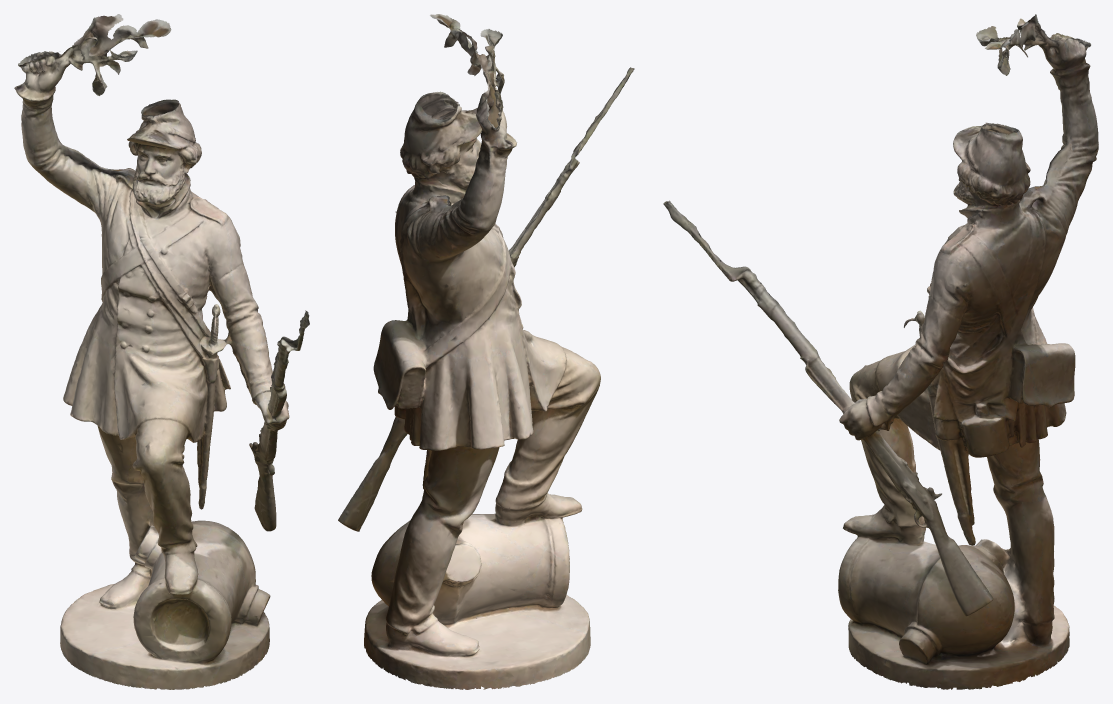
Rendered from preview.glb.
3 renders of one model, left to right at view 1: azimuth 30°, elevation 25°; view 2: azimuth 150°, elevation 25°; view 3: azimuth 270°, elevation 25°, orthographic. The views are drawn at different scales.
Visible parts, largest first — view 1: Object_2; view 2: Object_2; view 3: Object_2.
Part boxes in pixels (<box>): Object_2: <box>14,14,309,689</box>; Object_2: <box>338,14,634,689</box>; Object_2: <box>663,14,1098,689</box>.
Bounding box in the file's own units: 12.47 × 34.74 × 22.21.
1 material, 1 textured.
